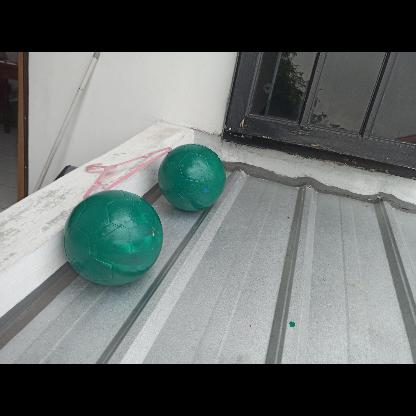green_ball: (66, 187, 164, 285), (160, 143, 226, 209)
